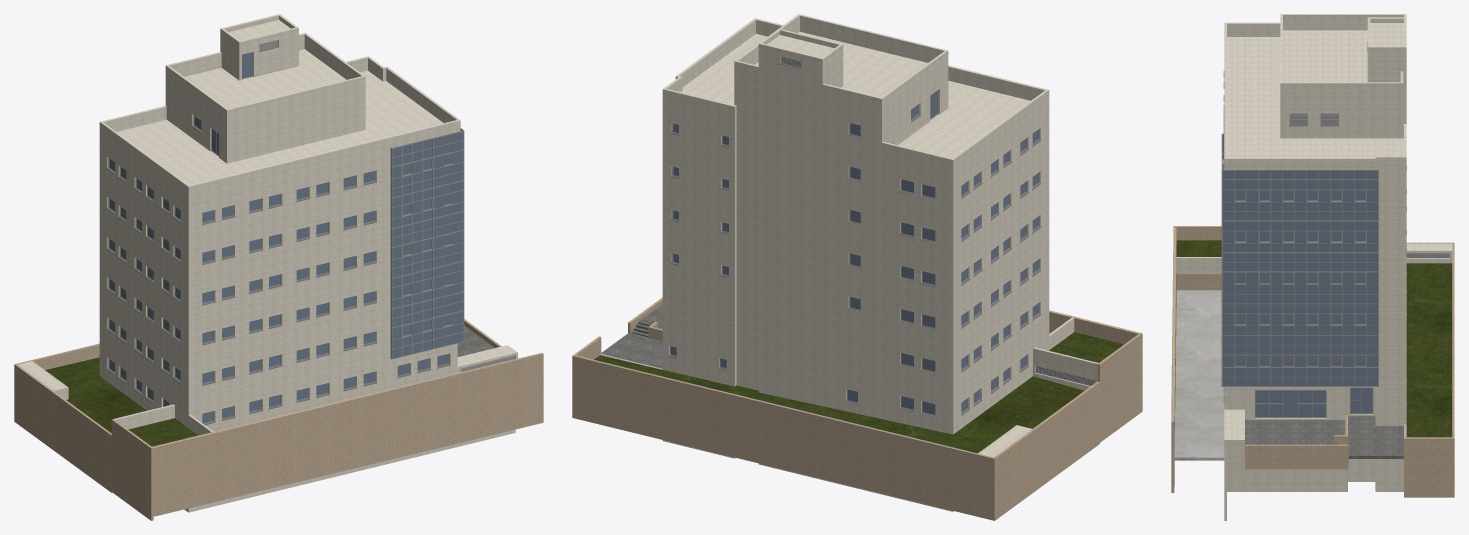
Rendered from edificio.glb.
3 views of the same model, side by side, from view 1: azimuth 30°, elevation 25°; view 2: azimuth 150°, elevation 25°; view 3: azimuth 270°, elevation 25° (orthographic). The views are drawn at different scales.
Visible parts, largest first — view 1: Line01, Line14, Rectangle01, Rectangle27, Line10, Rectangle14, Line21, Rectangle26, Line11, Rectangle13, Rectangle133, Line22 (+10 smaller); view 2: Line03, Line21, Rectangle01, Rectangle06, Line22, Rectangle07, Line10, Rectangle13, Rectangle133, Line11, Line01, Rectangle14 (+9 smaller); view 3: Rectangle02, Line10, Rectangle03, Line22, Line23, Rectangle12, Line11, Rectangle04, Line21, Rectangle124, Line17, Line18 (+20 smaller).
Boxes of the visible parts, box(x1,y1,x2,y2) form: Line01: box(187, 119, 515, 512); Line14: box(152, 352, 543, 516); Rectangle01: box(99, 121, 188, 511); Rectangle27: box(392, 131, 463, 358); Line10: box(117, 70, 443, 185); Rectangle14: box(228, 76, 363, 162); Line21: box(14, 343, 112, 492); Rectangle26: box(391, 130, 464, 359); Line11: box(185, 49, 346, 108); Rectangle13: box(166, 66, 229, 163); Rectangle133: box(111, 419, 153, 520); Line22: box(45, 357, 146, 432); Line03: box(758, 42, 951, 511); Line21: box(572, 336, 1099, 520); Rectangle01: box(951, 90, 1047, 511); Rectangle06: box(665, 89, 736, 458); Line22: box(594, 355, 1084, 453); Rectangle07: box(734, 60, 758, 390); Line10: box(681, 34, 1030, 158); Rectangle13: box(881, 50, 948, 145); Rectangle133: box(1097, 333, 1142, 442); Line11: box(755, 31, 927, 97); Line01: box(754, 18, 1049, 350); Rectangle14: box(800, 14, 945, 62); Rectangle02: box(1223, 171, 1377, 386); Line10: box(1227, 37, 1403, 157); Rectangle03: box(1375, 156, 1406, 491); Line22: box(1406, 263, 1452, 437); Line23: box(1174, 290, 1224, 460); Rectangle12: box(1280, 82, 1400, 138); Line11: box(1283, 30, 1367, 82); Rectangle04: box(1227, 387, 1347, 491); Line21: box(1404, 242, 1454, 497); Rectangle124: box(1222, 169, 1378, 262); Line17: box(1245, 444, 1348, 469); Line18: box(1245, 420, 1345, 444).
Size of the model in its own units: 35.64 by 33.92 by 21.79.
Materials: 9 (6 with a texture image).
